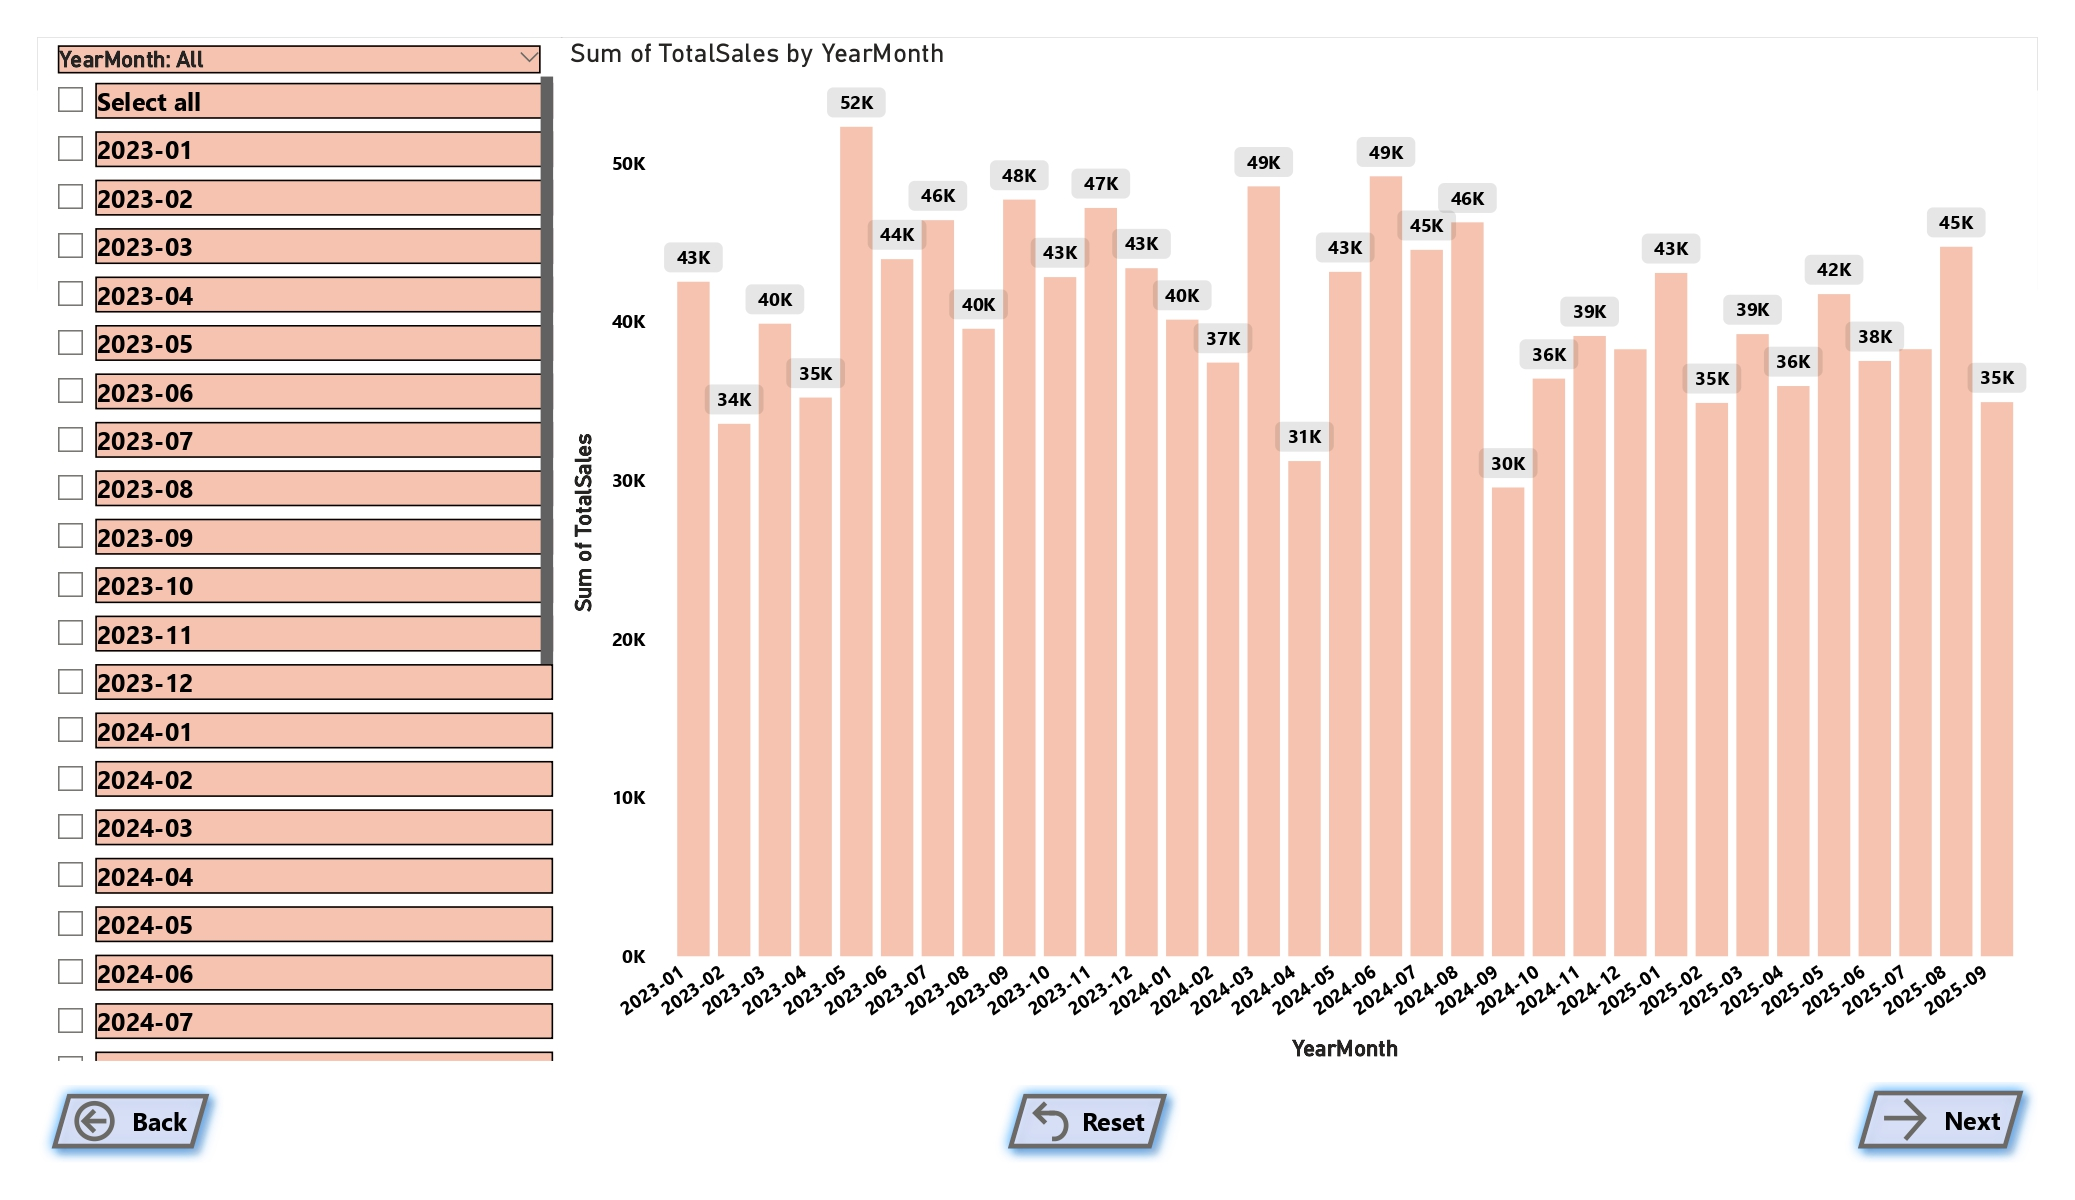

This screenshot's page, from the dashboard's own definition file:
{"tool":"powerbi","page":{"name":"Chart&Slicer","canvas":[1280,720],"ordinal":2},"visuals":[{"type":"actionButton","box":[0,666.7,119.1,53.3],"z":0},{"type":"actionButton","box":[611.6,666.7,120.9,53.3],"z":1000},{"type":"actionButton","box":[1155.9,665.4,124.1,54.6],"z":2000},{"type":"slicer","fields":{"Values":["Calendar.YearMonth"]},"box":[0,0,335.2,660.2],"z":3000},{"type":"clusteredColumnChart","fields":{"Category":["Calendar.YearMonth"],"Y":["Sum(Sales.TotalSales)"]},"box":[336,0,944,659.6],"z":4000}]}

Visuals, with their boxes in screenshot pixels (x1, y1, x2, y2):
actionButton: [x1=38, y1=1079, x2=224, y2=1162]
actionButton: [x1=993, y1=1079, x2=1182, y2=1162]
actionButton: [x1=1844, y1=1077, x2=2038, y2=1162]
slicer - Calendar.YearMonth: [x1=38, y1=38, x2=561, y2=1069]
clusteredColumnChart - Calendar.YearMonth x Sum(Sales.TotalSales): [x1=562, y1=38, x2=2038, y2=1068]
